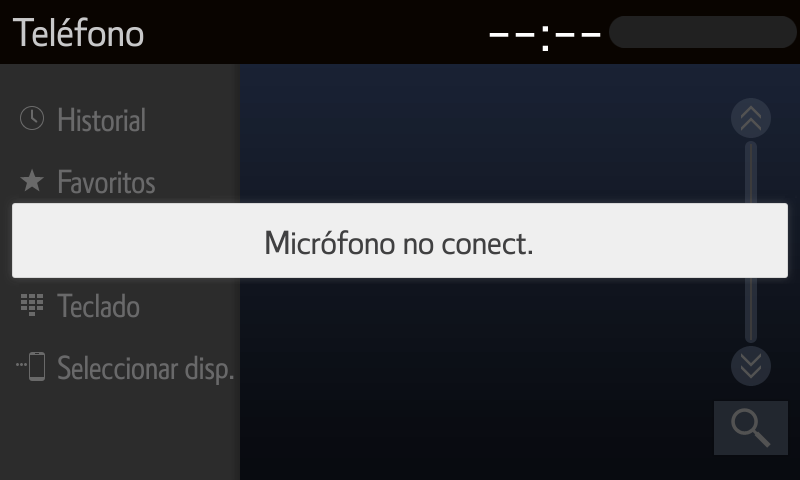untouchPart: (468, 13, 794, 53), (14, 351, 233, 392), (10, 97, 166, 143), (14, 161, 158, 205), (10, 15, 142, 53), (707, 404, 793, 458), (16, 289, 144, 323), (732, 347, 771, 387), (732, 96, 770, 136)
